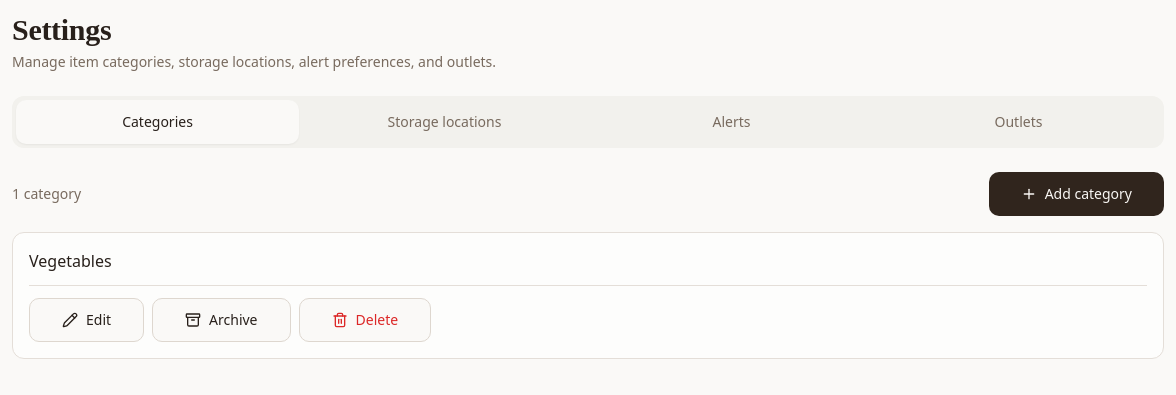
Scenario: SettingsPage › shows the empty state
Click the tab "Storage locations": (444, 122) [303, 100, 586, 144]
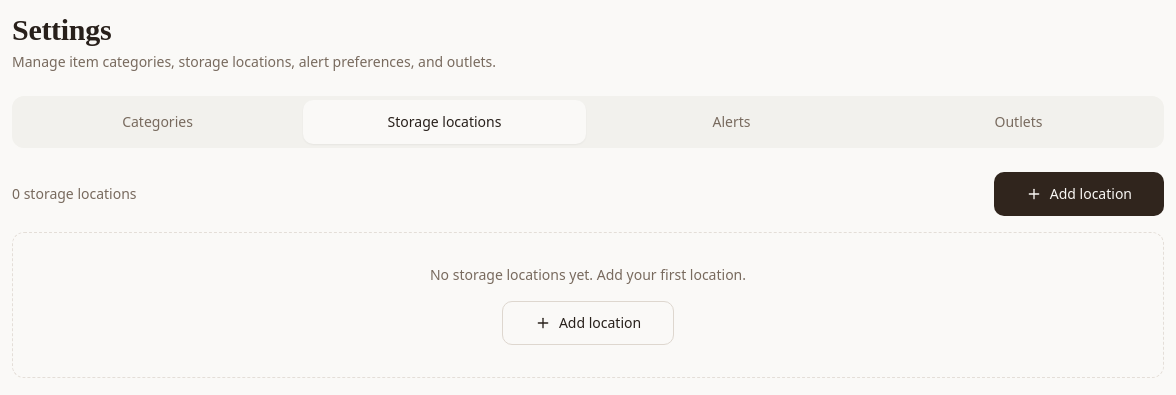
Check: the text "No storage locations yet. Add your first location." is shown, box [430, 265, 746, 284]
